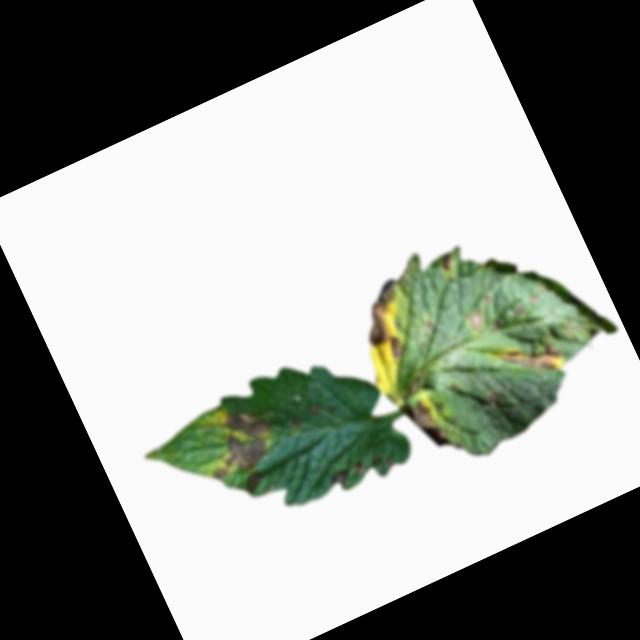Early_blight: (190, 398, 283, 485), (347, 276, 427, 368), (493, 327, 571, 394), (399, 392, 449, 459), (464, 306, 489, 335), (327, 466, 355, 490), (439, 250, 461, 273), (289, 416, 304, 431), (306, 407, 319, 421)
